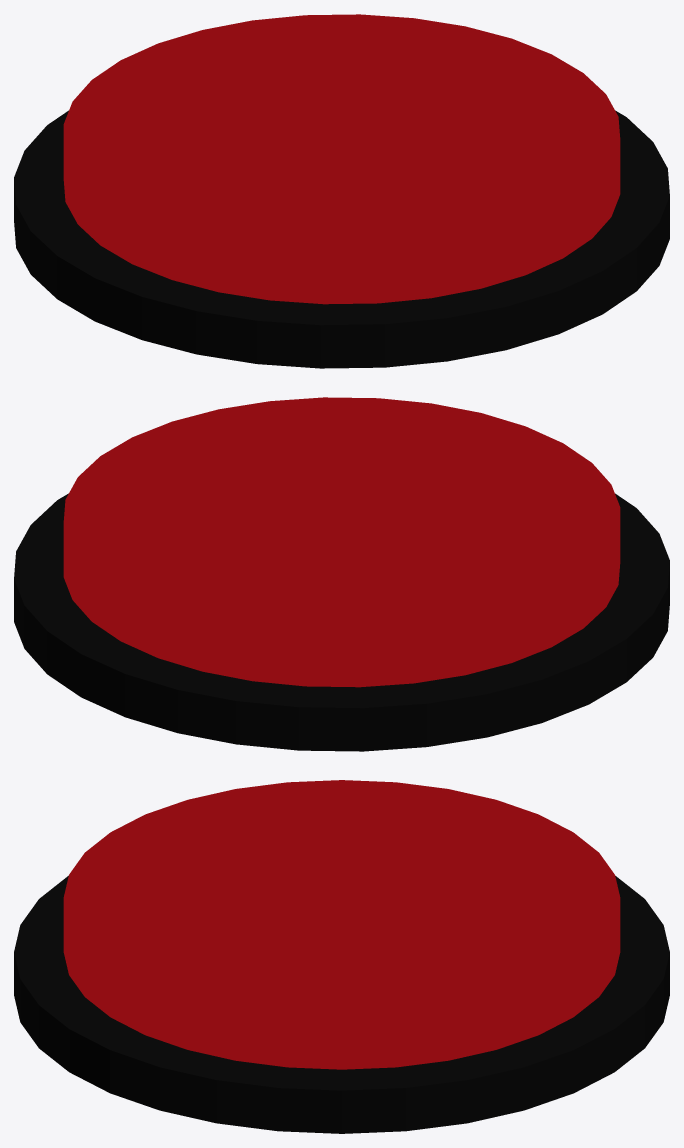
Rendered from Button test.fbx.
The picture shows the model from 3 angles, top to bottom: view 1: azimuth 30°, elevation 25°; view 2: azimuth 150°, elevation 25°; view 3: azimuth 270°, elevation 25°; orthographic projection.
Parts seen in each view (by area): view 1: Cylinder.001; view 2: Cylinder.001; view 3: Cylinder.001.
Boxes of the visible parts, x1,y1,x2,y2 form: Cylinder.001: (14, 14, 669, 368); Cylinder.001: (14, 397, 669, 751); Cylinder.001: (14, 780, 669, 1133).
Bounding box in the file's own units: 200 × 32.85 × 200.
